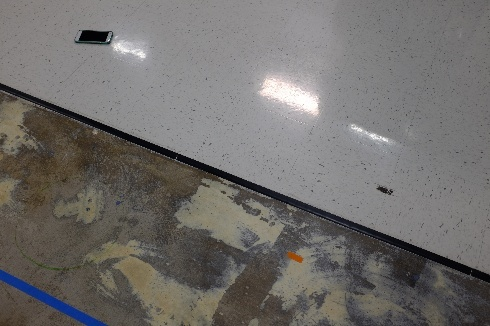phone: (68, 20, 117, 52)
